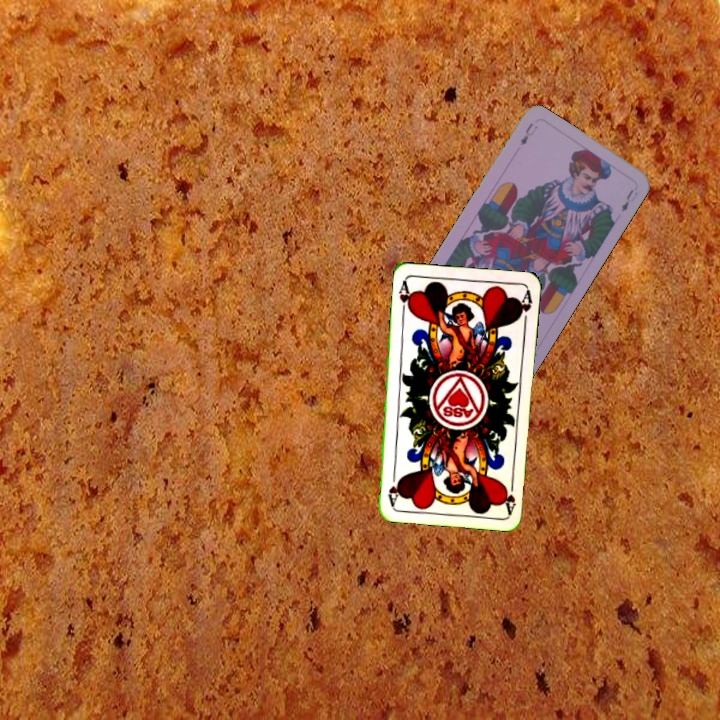EU: (516, 119, 540, 148)
HA: (395, 277, 415, 317), (499, 475, 518, 515)
